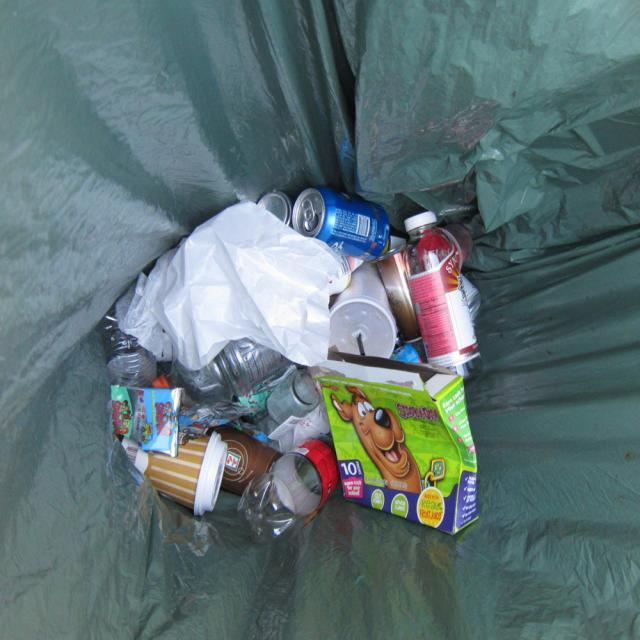trash: (56, 116, 541, 581)
